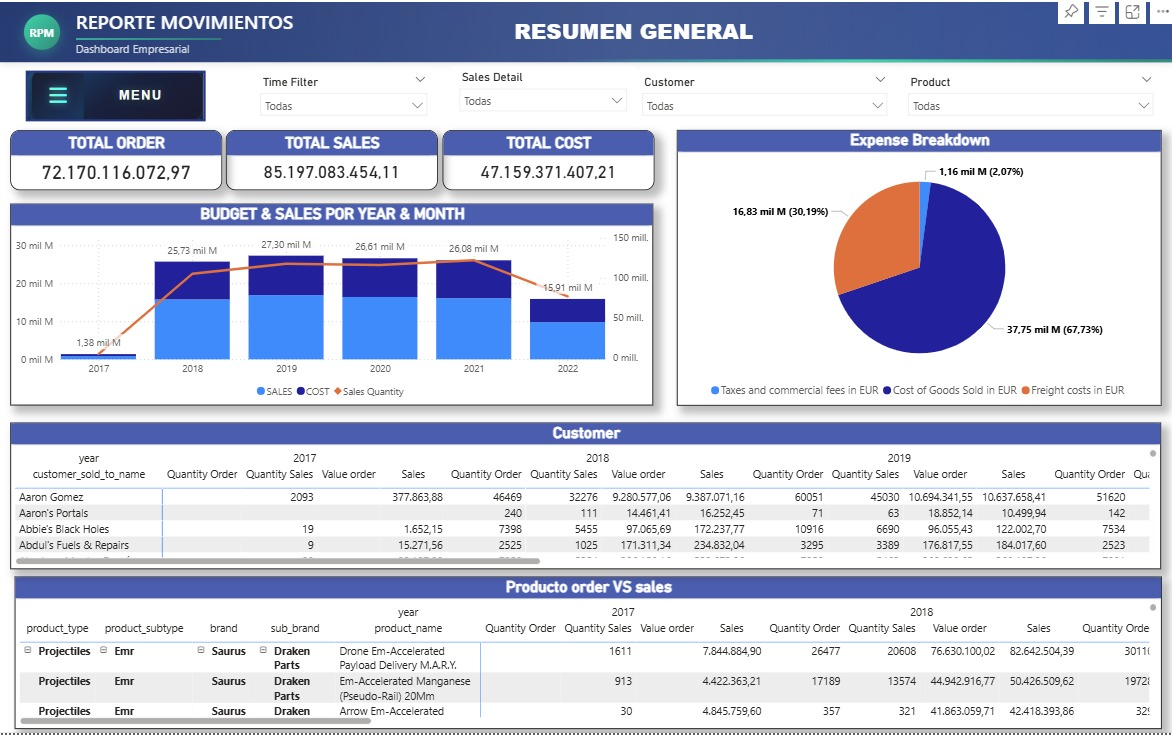

Layout of this report page (visuals, bound fields, positions):
{"tool":"powerbi","page":{"name":"RESUMEN","canvas":[1480,921],"ordinal":1},"visuals":[{"type":"group","id":"g1","title":"Grupo 1","box":[0,0,1480,921],"z":0},{"type":"htmlContent443BE3AD55E043BF878BED274D3A6855","fields":{"content":["Calendar.HTML Fondo Diapositiva"]},"box":[0,0,1480,921],"z":0,"group":"g1"},{"type":"textbox","box":[321.1,16.7,955.9,62.1],"z":1000,"group":"g1"},{"type":"lineStackedColumnComboChart","title":"BUDGET & SALES POR YEAR & MONTH","fields":{"Category":["Calendar.date Hierarchy.year"],"Y":["Sum(gold_fact_sales.sales_eur)","gold_fact_sales.TOTAL_COST"],"Y2":["Sum(gold_fact_sales.quantity)"]},"box":[18.2,257.5,805.9,253],"z":1000},{"type":"slicer","fields":{"Values":["Calendar.date Hierarchy.year","Calendar.date Hierarchy.quarter","Calendar.date Hierarchy.monthName","Calendar.date Hierarchy.date"]},"box":[320.6,90.6,229.3,62.9],"z":2000},{"type":"pieChart","title":"Expense Breakdown","fields":{"Y":["Sum(gold_fact_sales.taxes_eur)","Sum(gold_fact_sales.cogs_eur)","Sum(gold_fact_sales.freight_eur)"]},"box":[852.9,165.1,607.5,345.4],"z":2000,"group":"g1"},{"type":"slicer","fields":{"Values":["gold_dim_product.product_type","gold_dim_product.product_subtype","gold_dim_product.product_name","gold_dim_product.color"]},"box":[1132.7,90.8,327.7,62.3],"z":3000},{"type":"slicer","fields":{"Values":["gold_dim_customer.account_type","gold_dim_customer.station","gold_dim_customer.account_name","gold_dim_customer.account_manager"]},"box":[799.7,90.8,327.7,62.3],"z":4000},{"type":"pivotTable","title":"Producto order VS sales","fields":{"Rows":["gold_dim_product.product_type","gold_dim_product.product_subtype","gold_dim_product.brand","gold_dim_product.sub_brand_name","gold_dim_product.product_name"],"Values":["Sum(gold_fact_orders.quantity)","Sum(gold_fact_sales.quantity)","Sum(gold_fact_orders.order_value_eur)","gold_fact_sales.Sales Only"],"Columns":["Calendar.date Hierarchy.year"]},"box":[23.2,724.9,1437.3,190.6],"z":5000},{"type":"pivotTable","title":"Customer","fields":{"Values":["Sum(gold_fact_orders.quantity)","Sum(gold_fact_sales.quantity)","Sum(gold_fact_orders.order_value_eur)","gold_fact_sales.Sales Only"],"Columns":["Calendar.date Hierarchy.year"],"Rows":["gold_dim_customer.customer_sold_to_name"]},"box":[18.2,531.7,1442.1,183.3],"z":6000},{"type":"card","title":"TOTAL ORDER","fields":{"Values":["Sum(gold_fact_orders.order_value_eur)"]},"box":[18.2,165.1,265.1,75.7],"z":7000},{"type":"card","title":"TOTAL SALES","fields":{"Values":["gold_fact_sales.Sales Only"]},"box":[287.8,165.1,265.1,75.7],"z":8000},{"type":"card","title":"TOTAL COST","fields":{"Values":["gold_fact_sales.TOTAL_COST"]},"box":[559,165.1,265.1,75.7],"z":9000},{"type":"actionButton","box":[37.9,90.9,225.7,63.6],"z":10000},{"type":"slicer","fields":{"Values":["gold_fact_sales.document_category","gold_fact_sales.document_type_description"]},"box":[569.9,85.5,229.7,73],"z":12000}]}

Visuals, with their boxes in screenshot pixels (x1, y1, x2, y2), scaled from the page's 1480x921 canvas onto the 1172x740 screenshot:
"Grupo 1" group: x1=0, y1=0, x2=1171, y2=739
htmlContent443BE3AD55E043BF878BED274D3A6855 - Calendar.HTML Fondo Diapositiva: x1=0, y1=0, x2=1171, y2=739
textbox: x1=254, y1=13, x2=1011, y2=63
"BUDGET & SALES POR YEAR & MONTH" lineStackedColumnComboChart: x1=14, y1=207, x2=653, y2=410
slicer - Calendar.date Hierarchy.year x Calendar.date Hierarchy.quarter: x1=254, y1=73, x2=435, y2=123
"Expense Breakdown" pieChart: x1=675, y1=133, x2=1156, y2=410
slicer - gold_dim_product.product_type x gold_dim_product.product_subtype: x1=897, y1=73, x2=1156, y2=123
slicer - gold_dim_customer.account_type x gold_dim_customer.station: x1=633, y1=73, x2=893, y2=123
"Producto order VS sales" pivotTable: x1=18, y1=582, x2=1157, y2=736
"Customer" pivotTable: x1=14, y1=427, x2=1156, y2=574
"TOTAL ORDER" card: x1=14, y1=133, x2=224, y2=193
"TOTAL SALES" card: x1=228, y1=133, x2=438, y2=193
"TOTAL COST" card: x1=443, y1=133, x2=653, y2=193
actionButton: x1=30, y1=73, x2=209, y2=124
slicer - gold_fact_sales.document_category x gold_fact_sales.document_type_description: x1=451, y1=69, x2=633, y2=127
